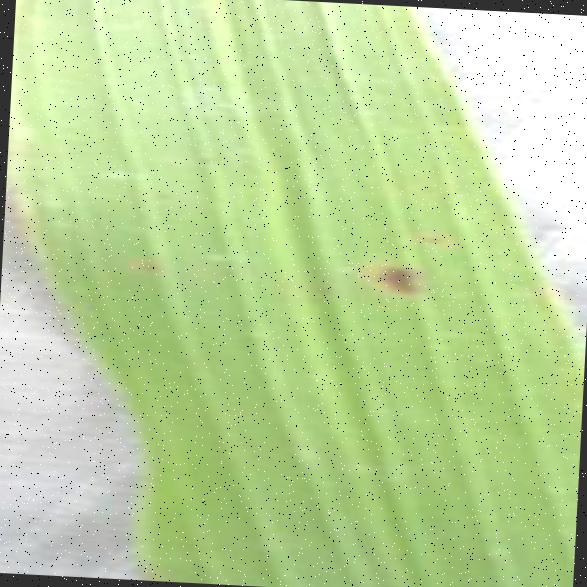Brown_Spot: (362, 254, 427, 300), (130, 252, 166, 275), (186, 145, 222, 168), (408, 172, 438, 199), (415, 227, 450, 248), (302, 276, 332, 297), (146, 182, 172, 203)
